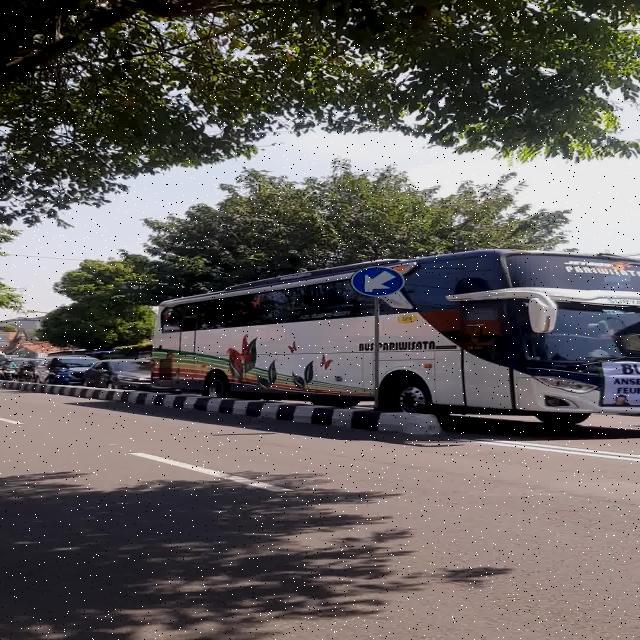Lajur Kiri: (350, 266, 404, 297)
